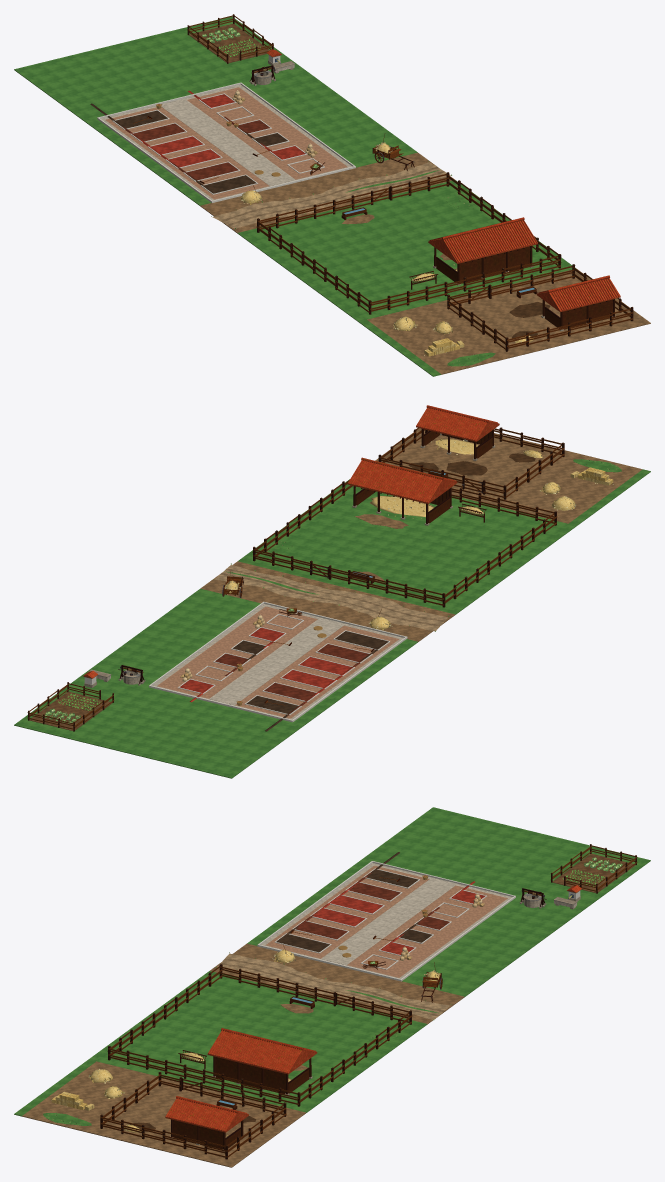
File: farm_yard.gltf
3 views of the same model, one above another, from view 1: azimuth 30°, elevation 25°; view 2: azimuth 150°, elevation 25°; view 3: azimuth 330°, elevation 25° (orthographic).
Parts seen in each view (by area): view 1: farm_yard; view 2: farm_yard; view 3: farm_yard.
Boxes of the visible parts, <box> form: farm_yard: <box>14,14,650,376</box>; farm_yard: <box>14,405,650,778</box>; farm_yard: <box>14,807,650,1167</box>.
Size of what is drawn, in the model's own units: 27.84 by 5.13 by 90.
Materials: 14 (10 with a texture image).
